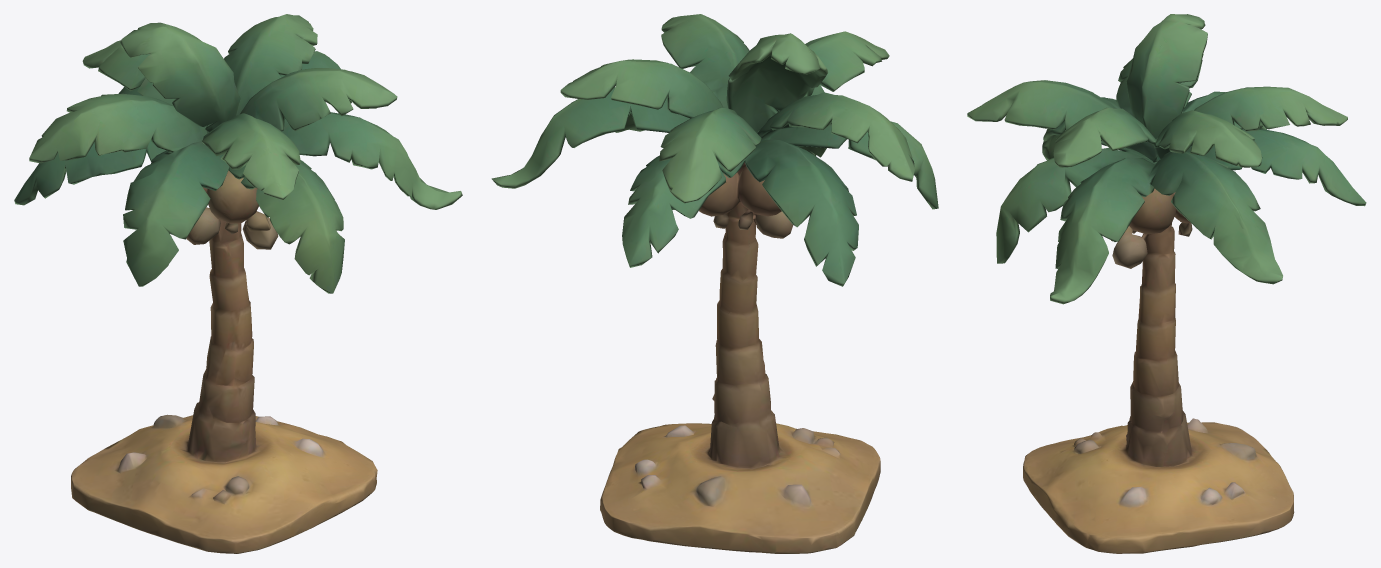
Rendered from beach_palm.glb.
The picture shows the model from 3 angles, left to right: view 1: azimuth 30°, elevation 25°; view 2: azimuth 150°, elevation 25°; view 3: azimuth 270°, elevation 25°; orthographic projection. The views are drawn at different scales.
Parts seen in each view (by area): view 1: tripo_node_3dd9768a-3897-4b81-8f10-d270058d5ff5; view 2: tripo_node_3dd9768a-3897-4b81-8f10-d270058d5ff5; view 3: tripo_node_3dd9768a-3897-4b81-8f10-d270058d5ff5.
Part boxes in pixels (x1,y1,x2,y2): tripo_node_3dd9768a-3897-4b81-8f10-d270058d5ff5: [14, 14, 462, 553]; tripo_node_3dd9768a-3897-4b81-8f10-d270058d5ff5: [491, 14, 938, 553]; tripo_node_3dd9768a-3897-4b81-8f10-d270058d5ff5: [967, 14, 1366, 553].
Size of the model in its own units: 0.806 by 1 by 0.7932.
Materials: 1 (1 with a texture image).
